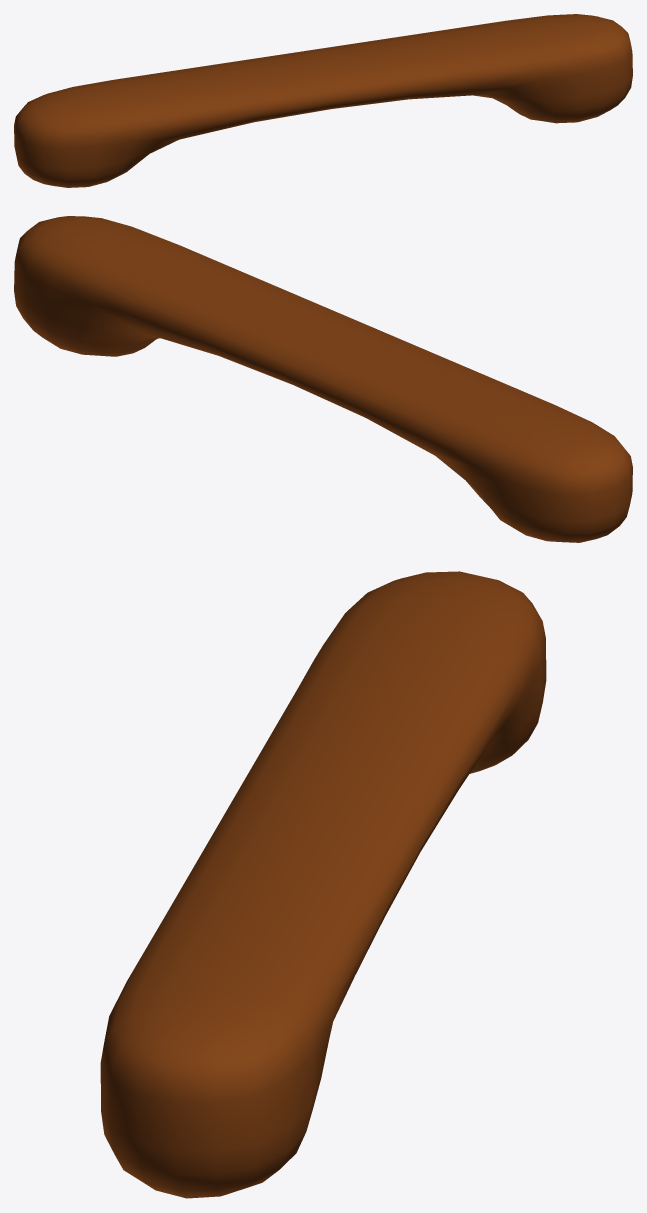
Rendered from bridge3.fbx.
3 views of the same model, one above another, from view 1: azimuth 30°, elevation 25°; view 2: azimuth 150°, elevation 25°; view 3: azimuth 270°, elevation 25° (orthographic). The views are drawn at different scales.
Parts seen in each view (by area): view 1: Cube.128; view 2: Cube.128; view 3: Cube.128.
Part boxes in pixels (bbox=[...]): Cube.128: bbox=[14, 14, 632, 187]; Cube.128: bbox=[14, 216, 632, 542]; Cube.128: bbox=[100, 571, 546, 1198].
Bounding box in the file's own units: 2328 × 371 × 827.
